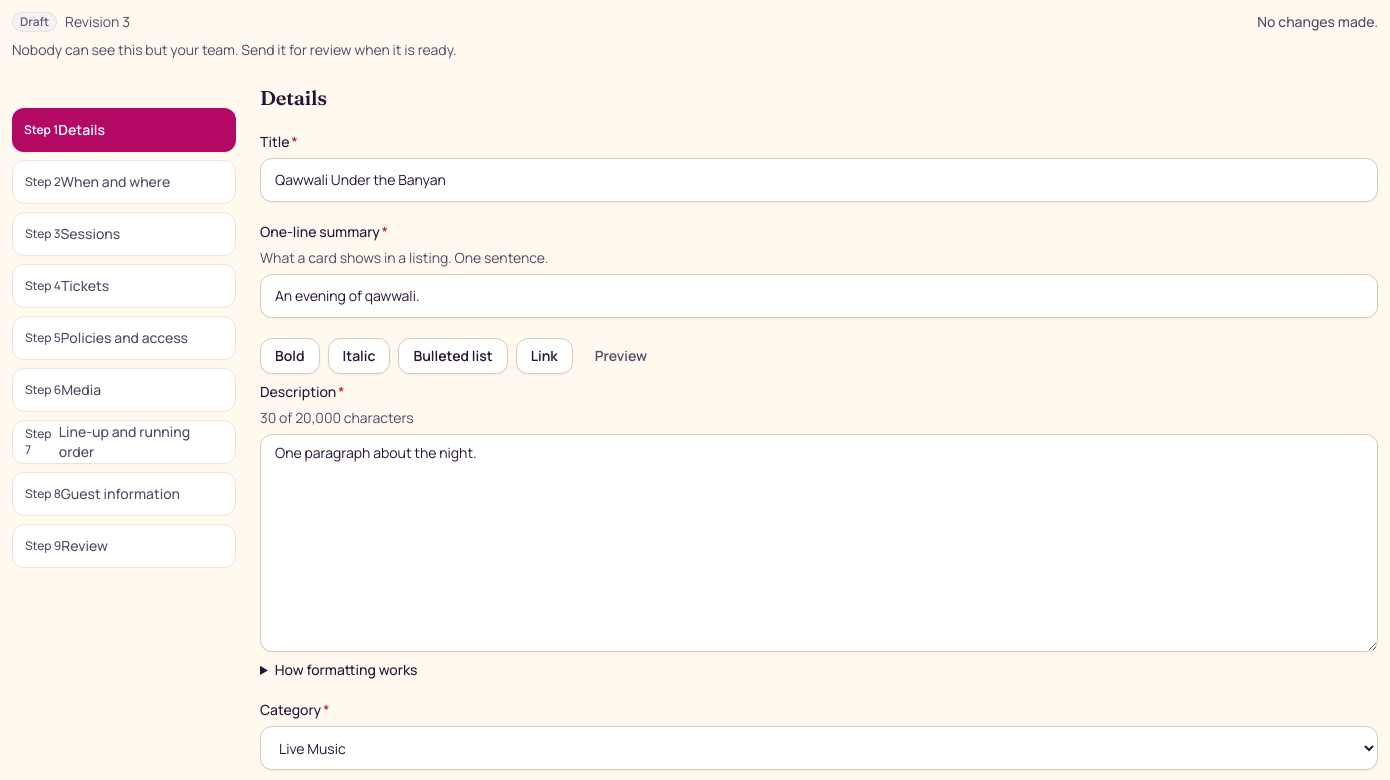
Test: what the editor says about saving › moves to the revision the server came back with
The image size is (1390, 780).
Type "!" into the field labelled "Title*". click: (819, 180)
box: [260,158,1378,202]
Wait 2000 ms
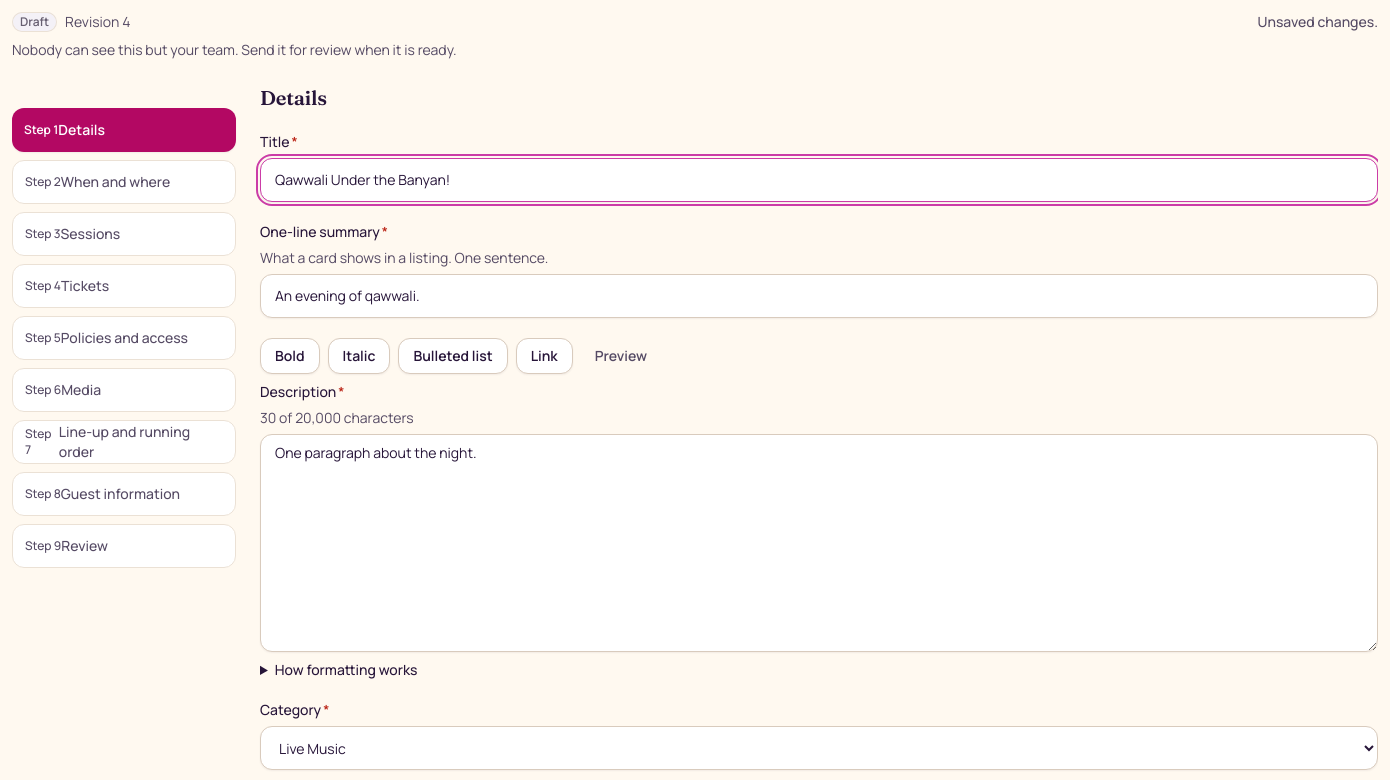
Expected: the text "Revision 4" is shown, [65,12,130,32]
